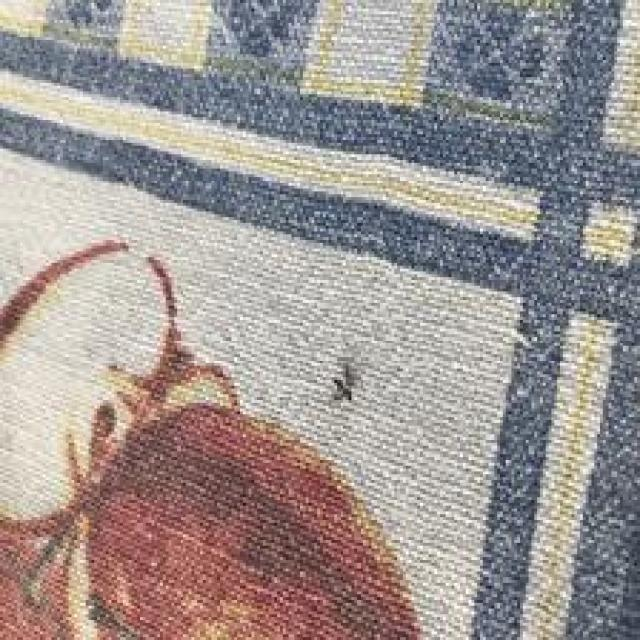Aedes albopictus: (0, 237, 434, 640)
